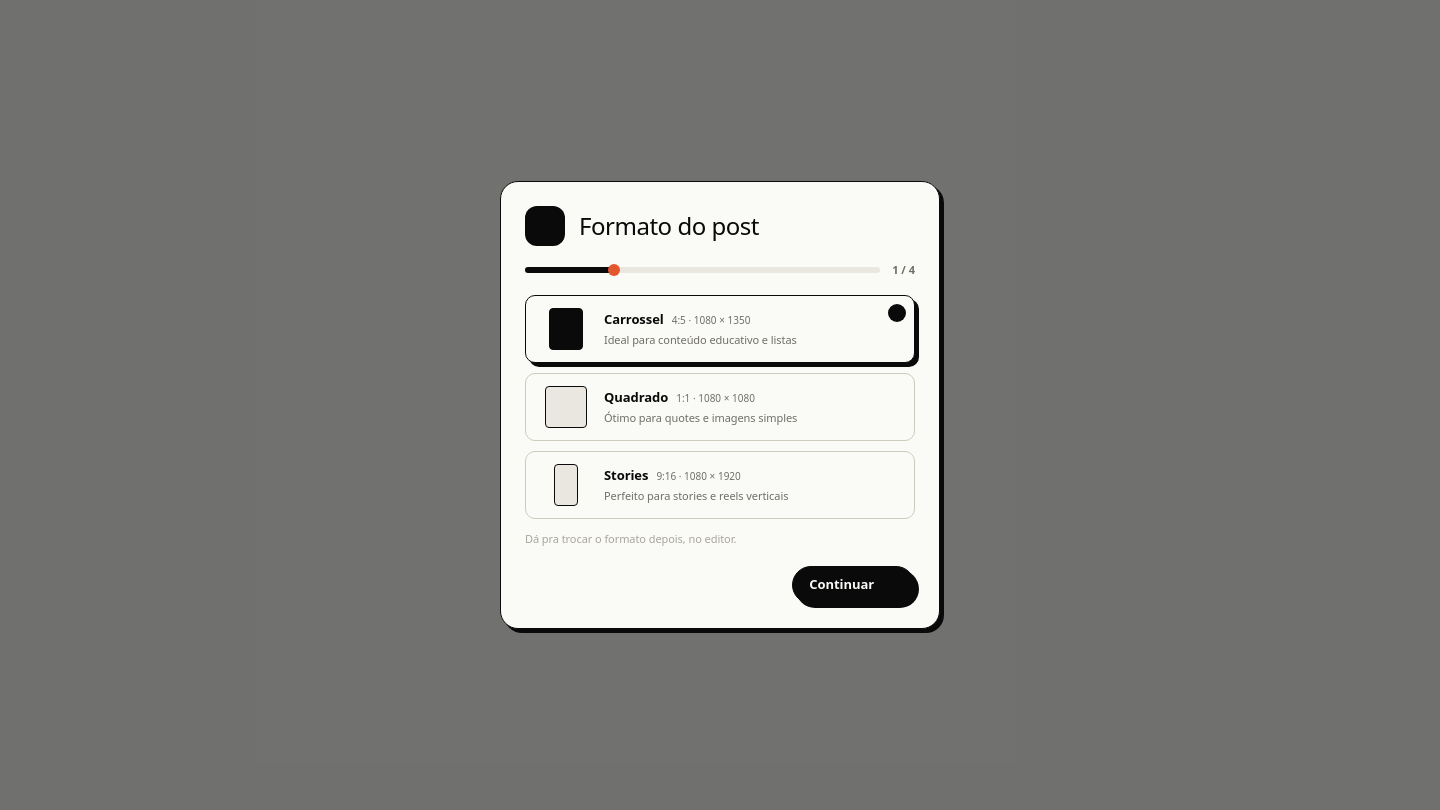
Test: os 4 previews aparecem, cada um no seu card, nos 3 formatos › em 1:1 o grid mostra os 4 templates com uma imagem cada
Click the text "Quadrado": (636, 398) [604, 388, 668, 408]
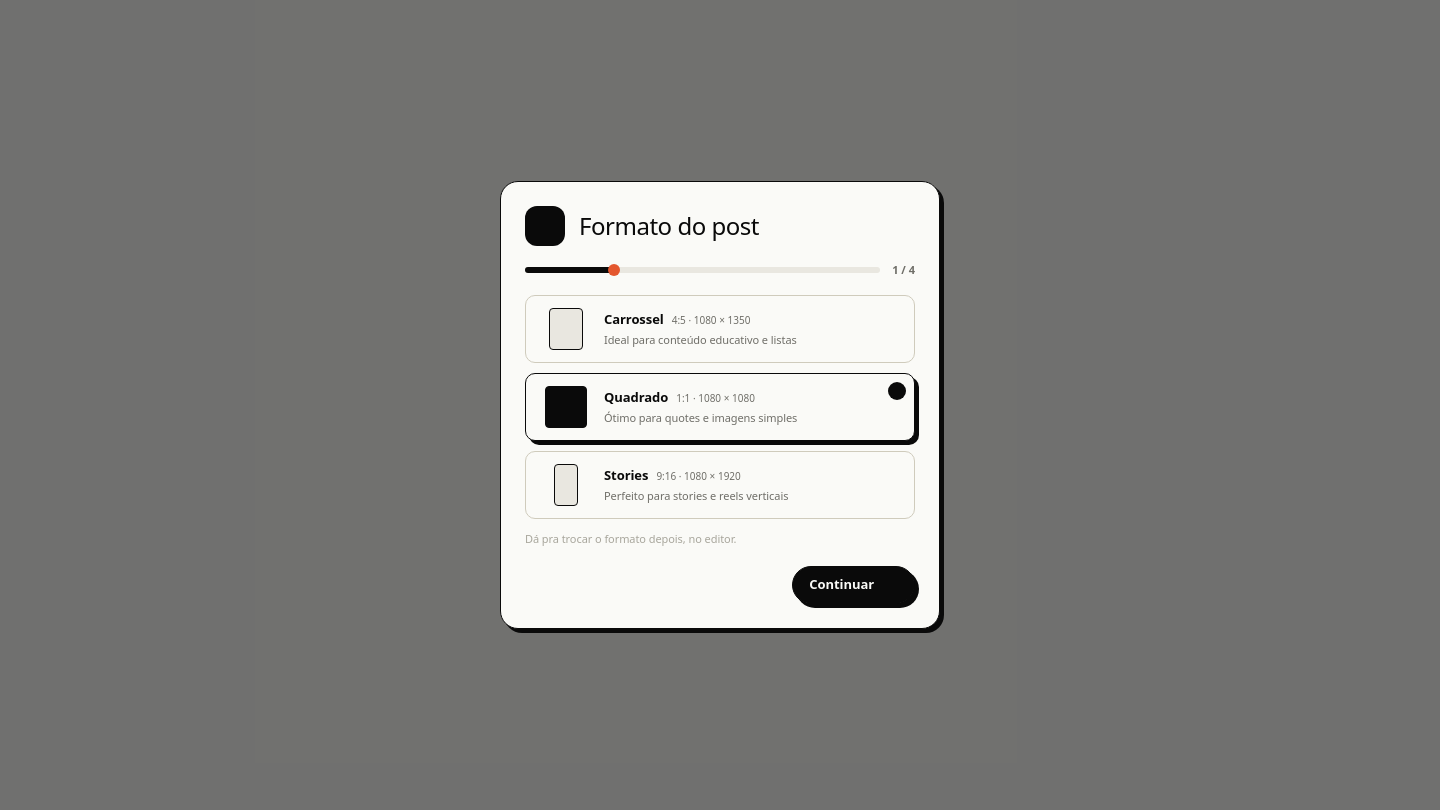
Click the button "Continuar": (854, 585) [792, 566, 915, 604]
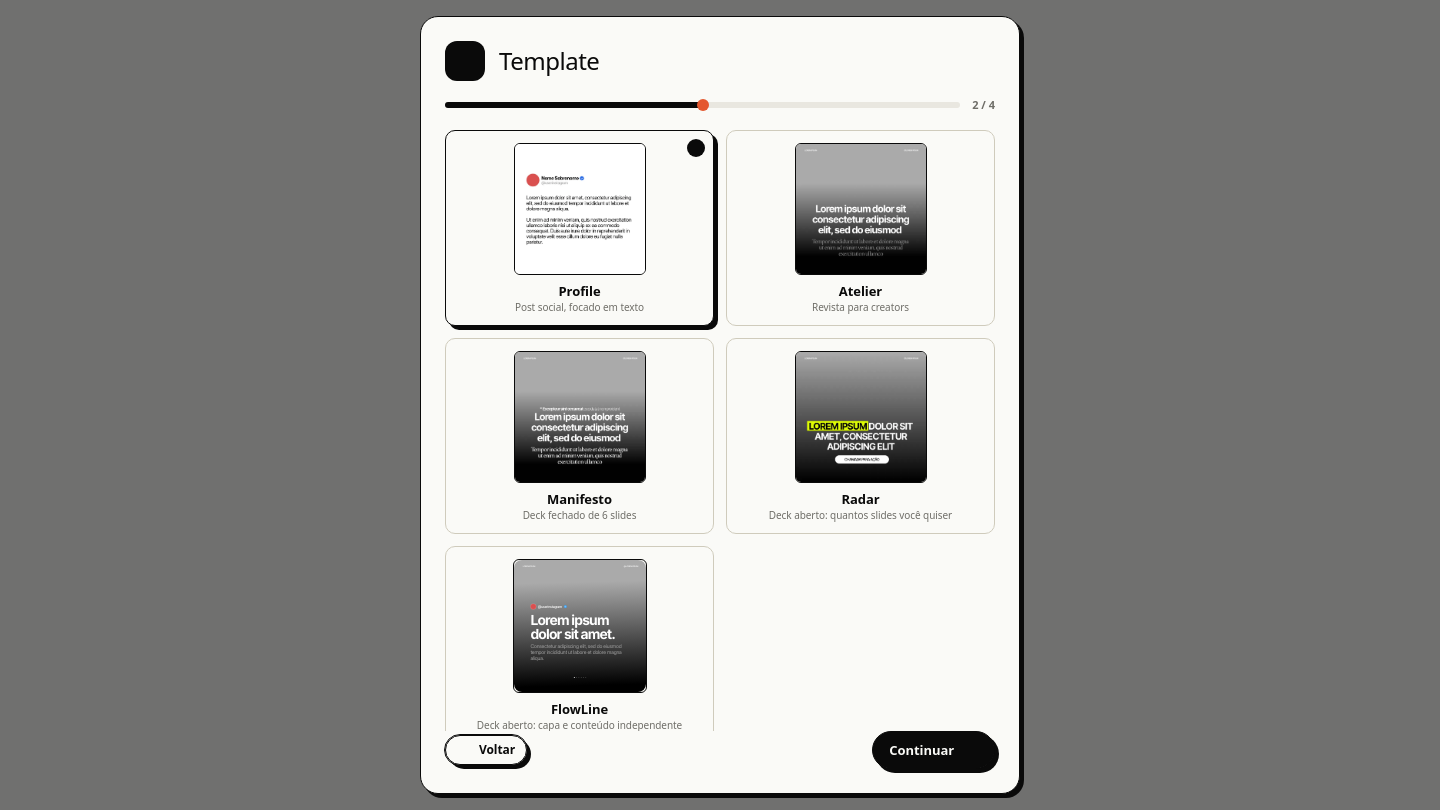
Now the text "Profile" is shown, box [558, 282, 600, 300]
Now the picture with test id "template-preview-profile" is shown, box [514, 144, 644, 274]
Now the text "Atelier" is shown, box [839, 282, 882, 300]
